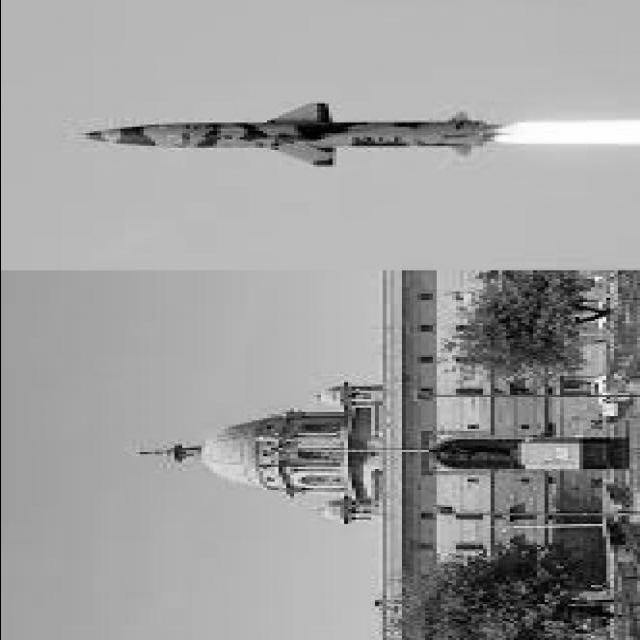Missile: (70, 103, 526, 170)
